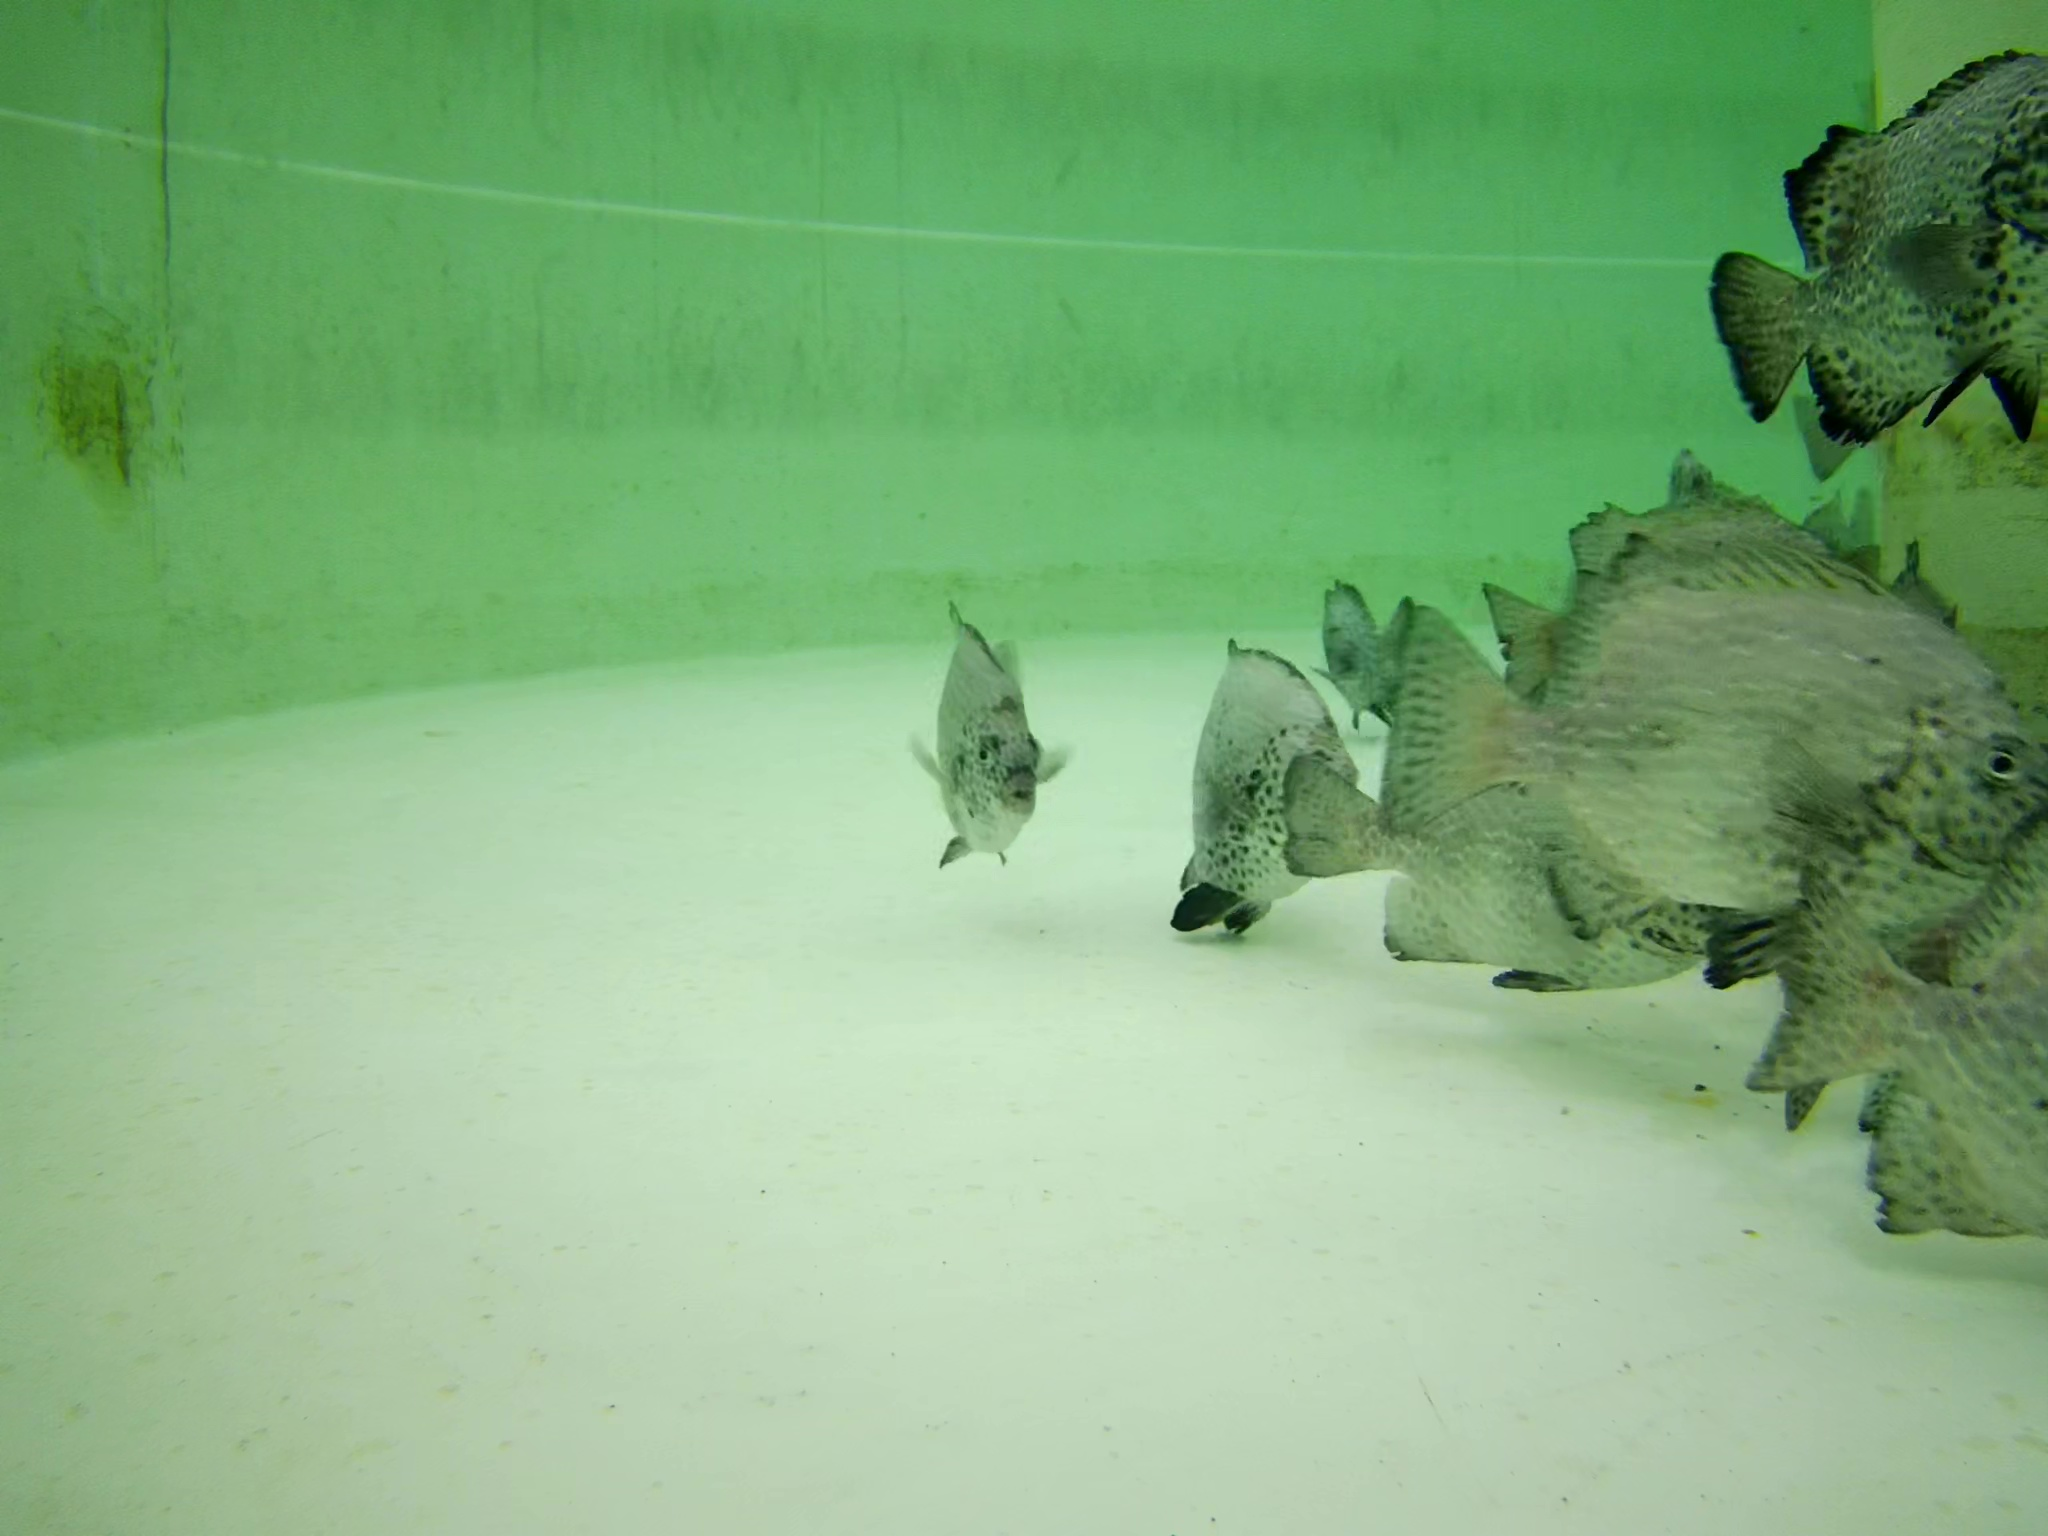fish: (1377, 541, 2048, 925), (1696, 48, 2048, 442), (1459, 487, 1880, 713), (1800, 881, 2048, 1258), (1200, 616, 1337, 970), (913, 574, 1071, 860), (1329, 579, 1413, 708)
